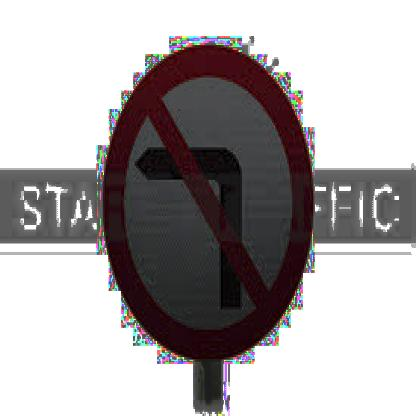No left turn: (93, 46, 313, 358)
